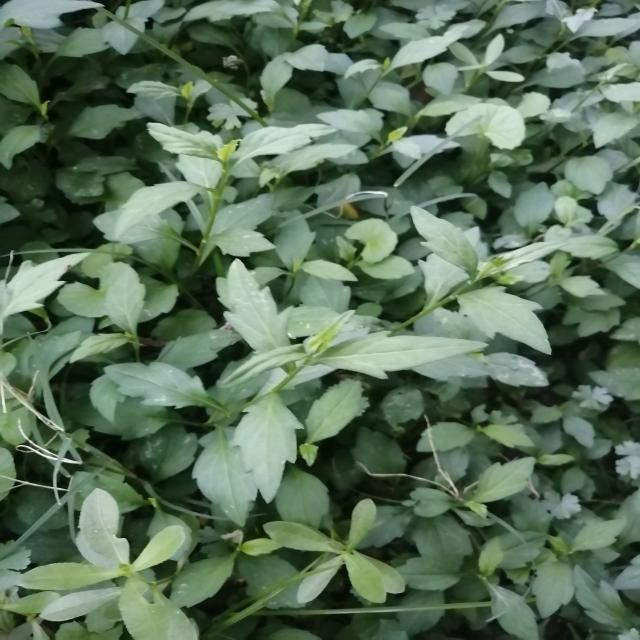Indian aster: (117, 249, 460, 489), (101, 118, 380, 264)
